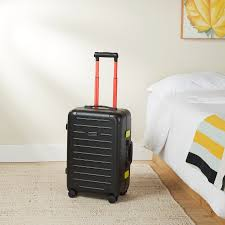suitcase: (65, 48, 132, 204)
